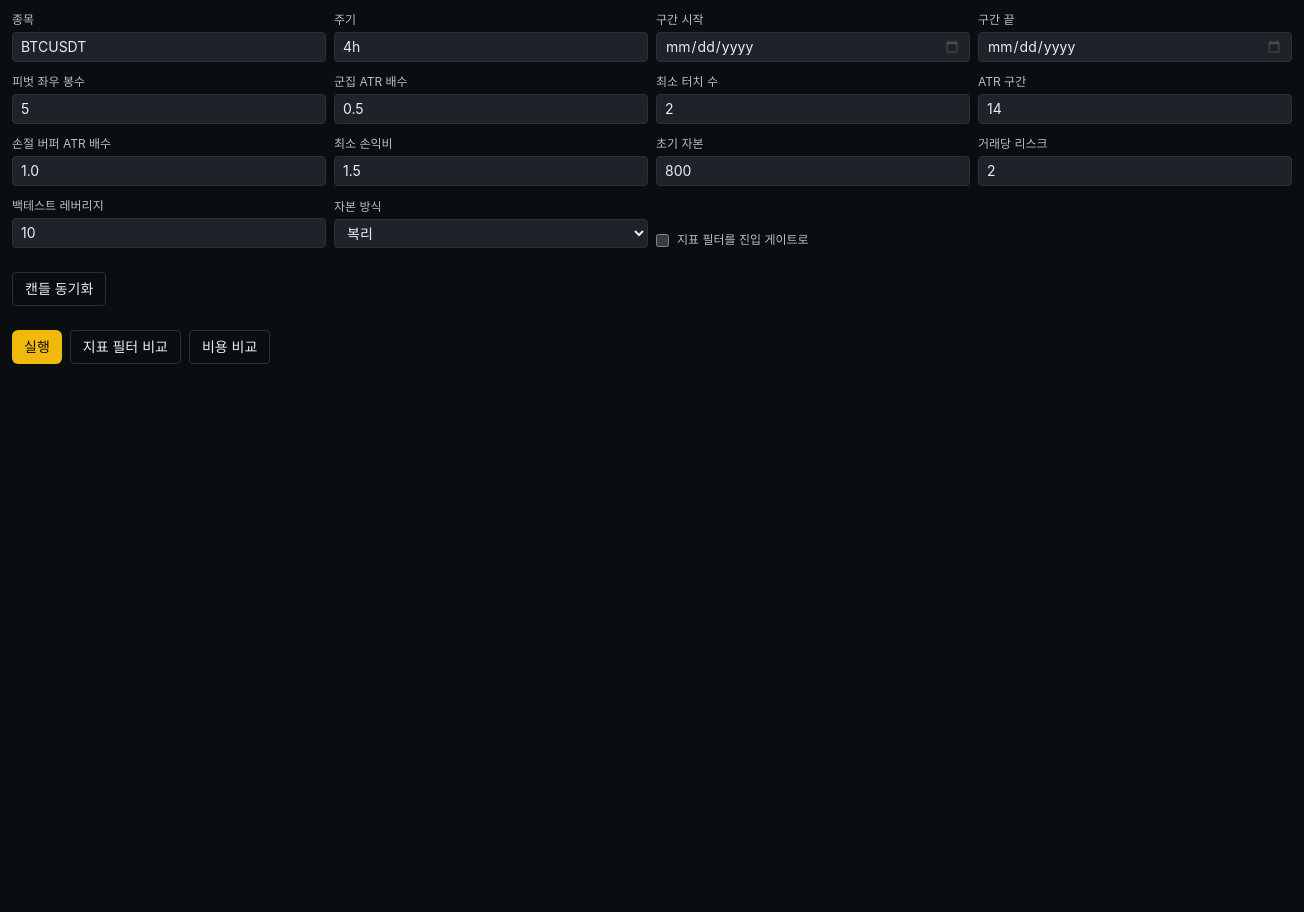
Test: 백테스트 › 진 거래가 없는 표본의 손익비는 0 이 아니라 — 로 나온다
The image size is (1304, 912).
Click the button "실행" at (37, 347), box [12,330,62,364]
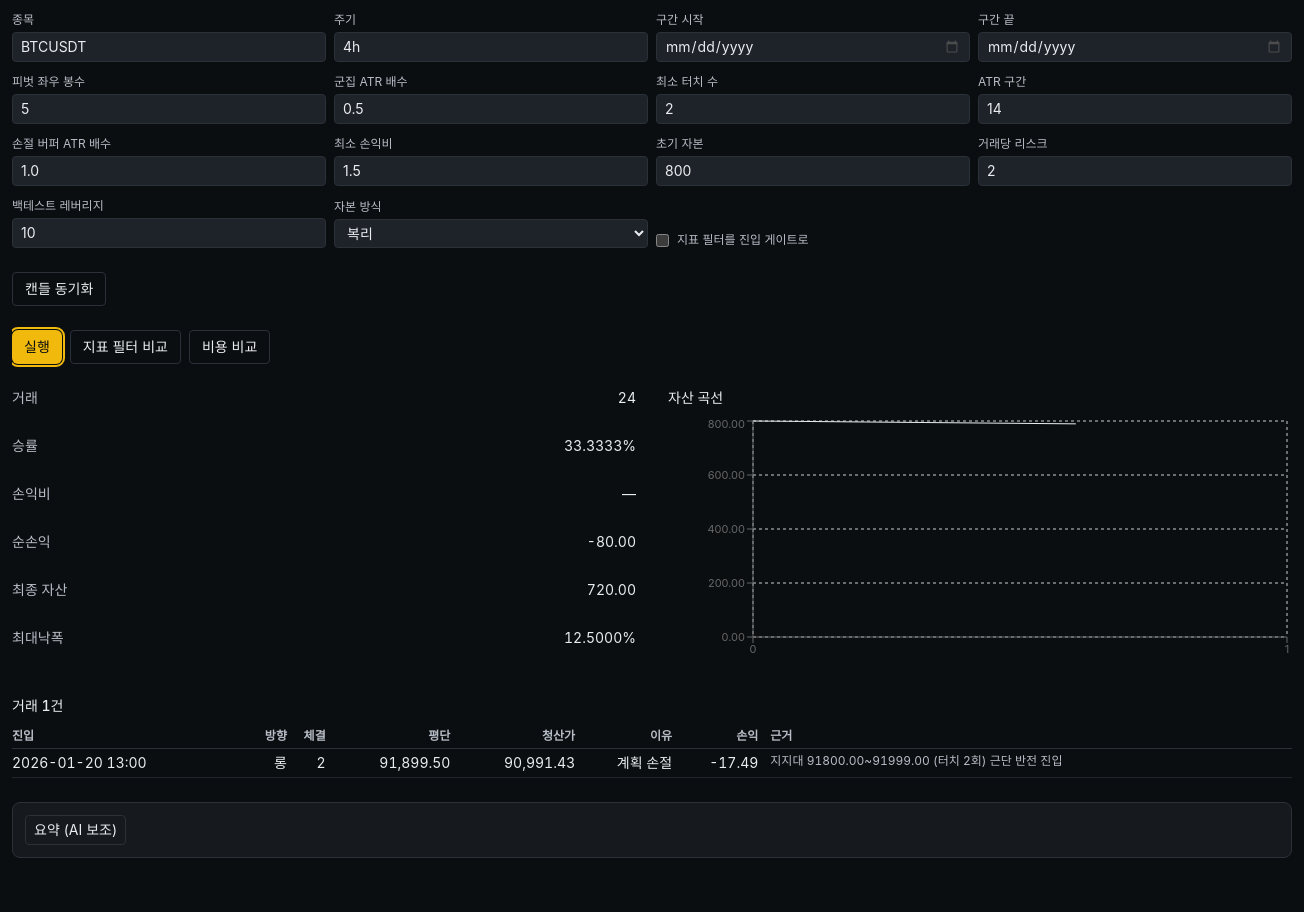
Expected: the element named "성적" shows "—", [622,485,636,502]
